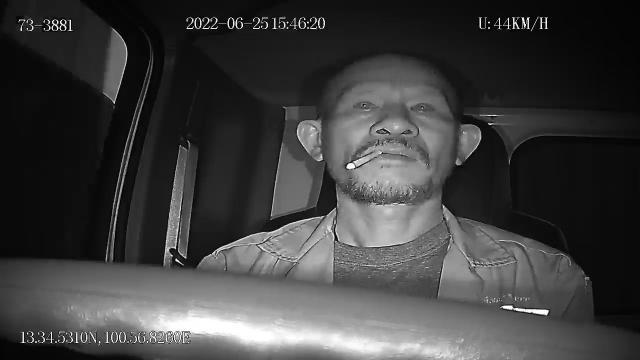SafeDriving: (403, 93, 443, 122), (348, 91, 385, 119)
Smoking: (346, 150, 380, 170)
